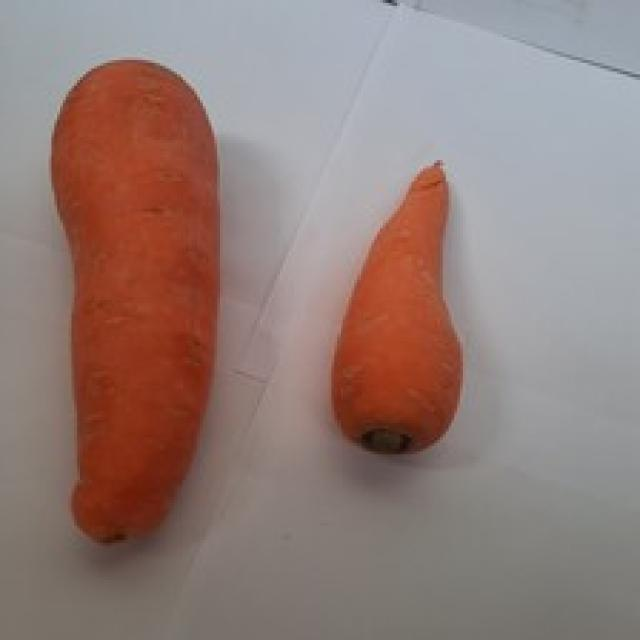Fresh_Carrot: (42, 56, 195, 569)
